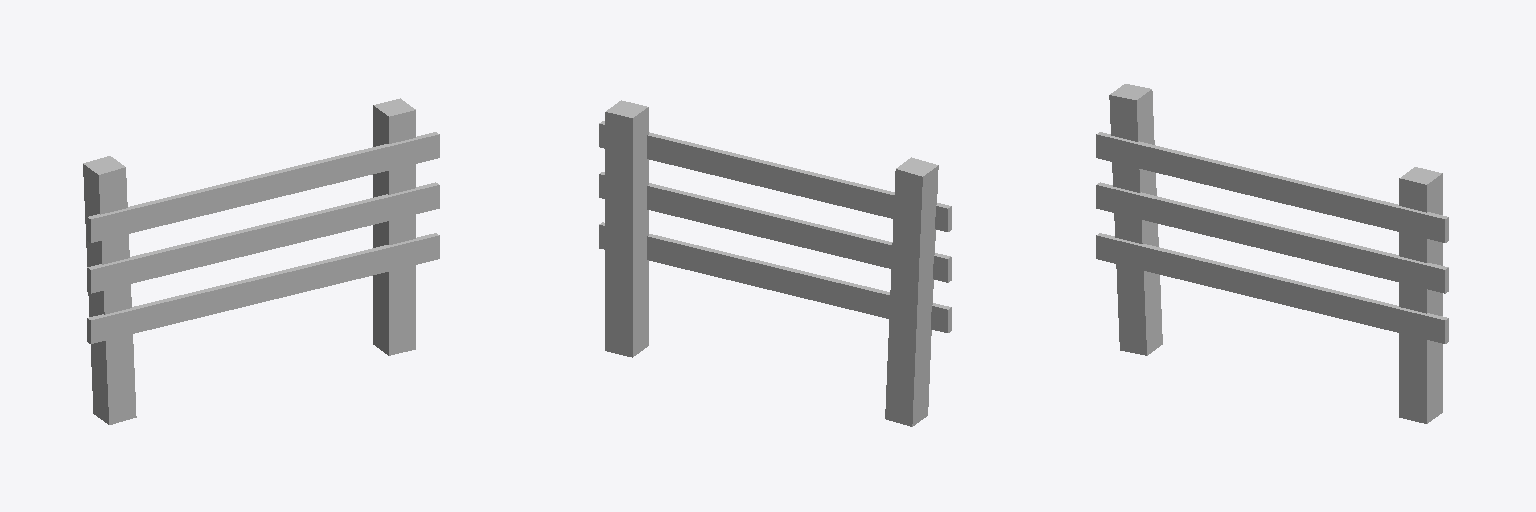
Rendered from Fence_1.obj.
3 views of the same model, side by side, from view 1: azimuth 30°, elevation 25°; view 2: azimuth 150°, elevation 25°; view 3: azimuth 330°, elevation 25° (orthographic).
Visible parts, largest first — view 1: Fence_01; view 2: Fence_01; view 3: Fence_01.
Part boxes in pixels (x1,y1,x2,y2): Fence_01: (83, 98, 439, 424); Fence_01: (599, 100, 951, 426); Fence_01: (1096, 84, 1448, 423).
Size of the model in its own units: 38.3 by 26.66 by 3.45.